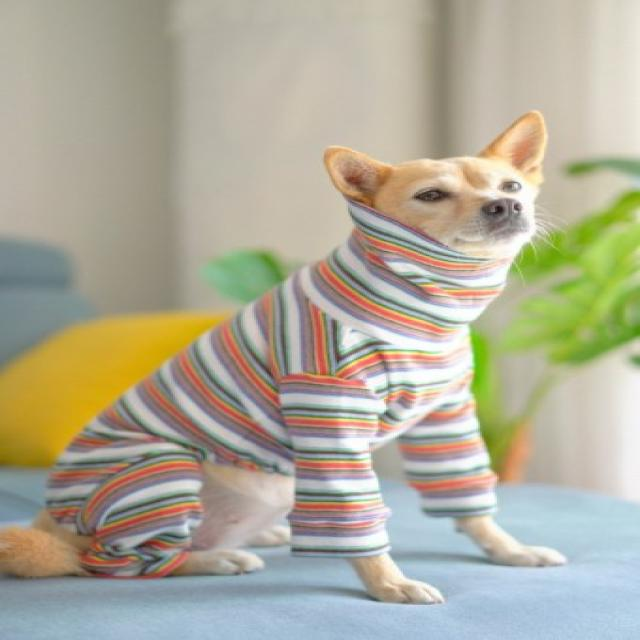cloth: (47, 203, 506, 576)
